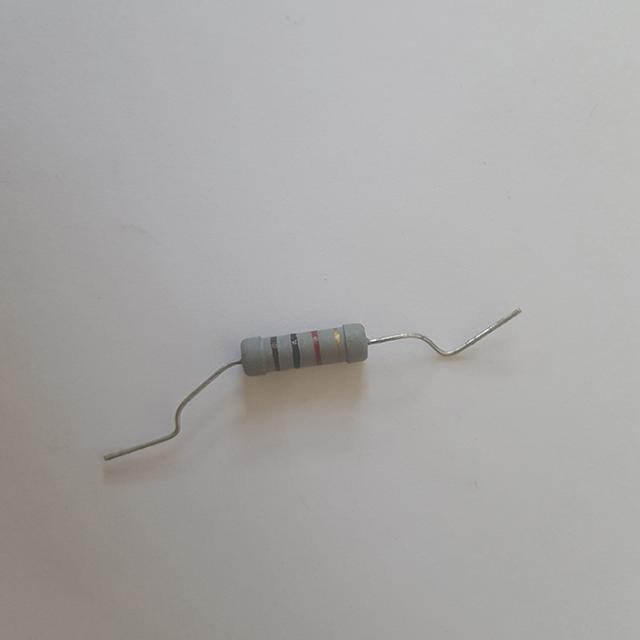black: (292, 334, 300, 367)
brown: (272, 337, 278, 370)
gold: (336, 328, 342, 360)
red: (313, 332, 320, 363)
resistor: (234, 315, 375, 386)
